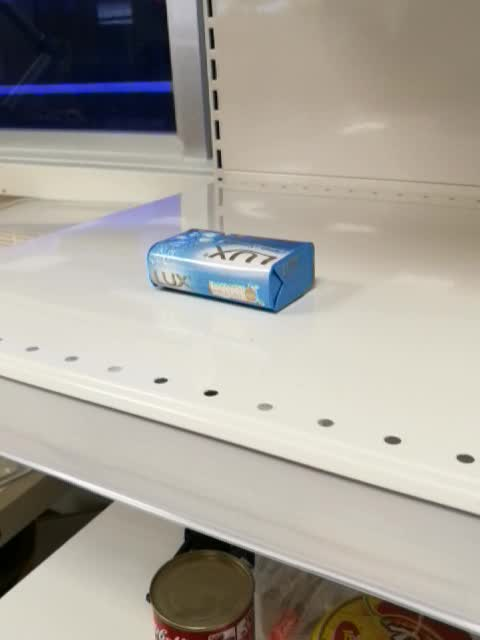soap: (146, 226, 316, 315)
